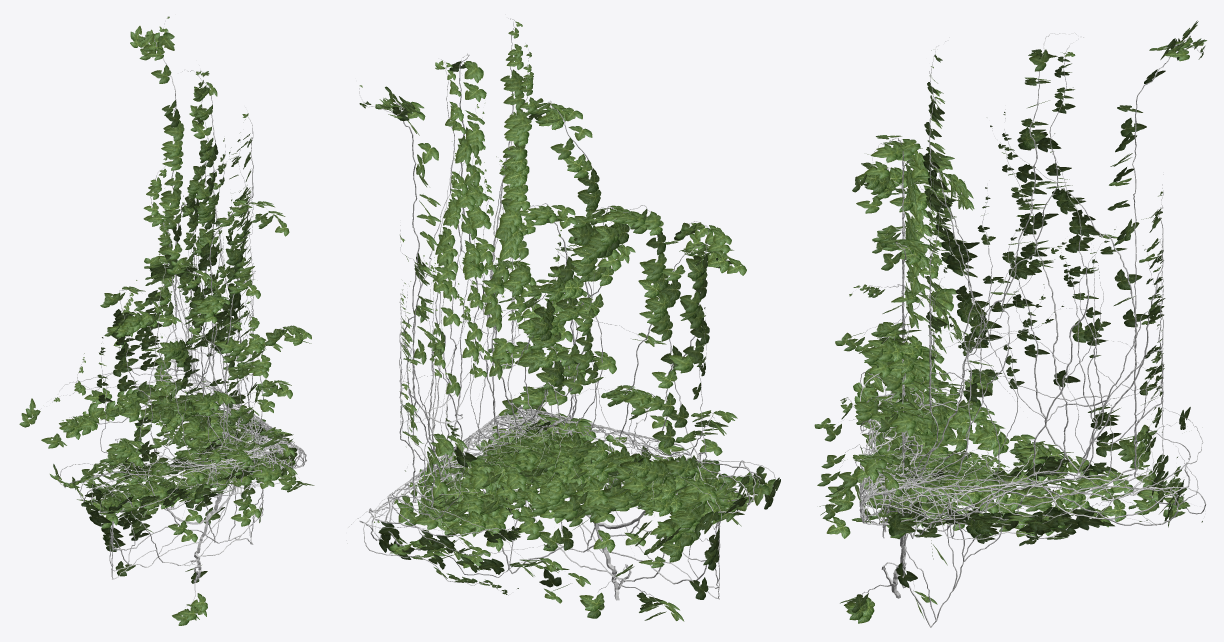
Rendered from moss.fbx.
3 renders of one model, left to right at view 1: azimuth 30°, elevation 25°; view 2: azimuth 150°, elevation 25°; view 3: azimuth 270°, elevation 25°, orthographic. The views are drawn at different scales.
Parts seen in each view (by area): view 1: 灌木; view 2: 灌木; view 3: 灌木.
Boxes of the visible parts, <box> form: 灌木: <box>19,16,314,625</box>; 灌木: <box>349,18,780,621</box>; 灌木: <box>814,20,1206,627</box>.
Size of the model in its own units: 102 by 205 by 114.
